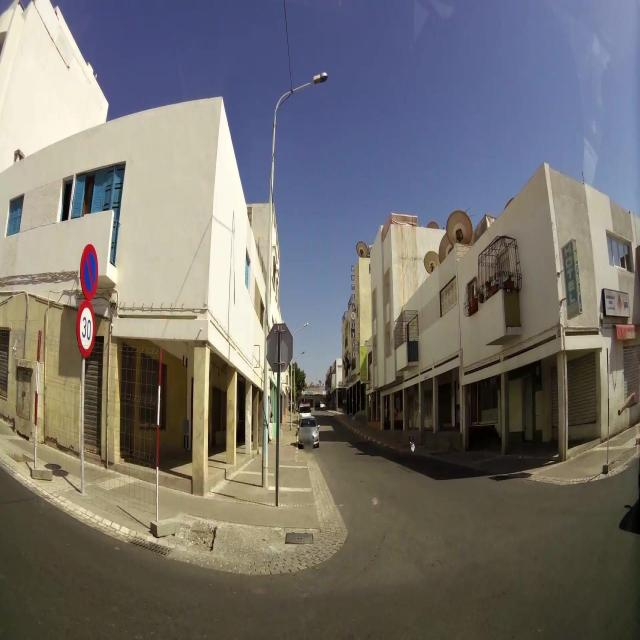forb_stopping: (80, 243, 98, 302)
